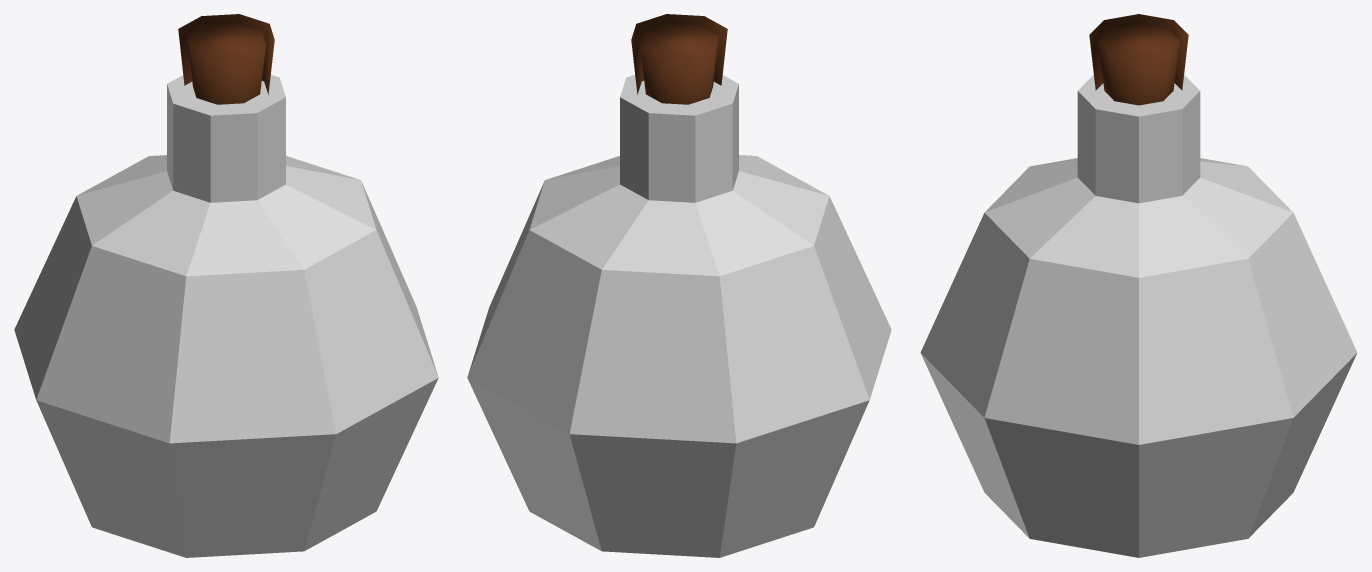
File: potion1.glb
The picture shows the model from 3 angles, left to right: view 1: azimuth 30°, elevation 25°; view 2: azimuth 150°, elevation 25°; view 3: azimuth 270°, elevation 25°; orthographic projection.
Visible parts, largest first — view 1: Sphere, Cylinder.001; view 2: Sphere, Cylinder.001; view 3: Sphere, Cylinder.001.
Part boxes in pixels (x1,y1,x2,y2): Sphere: [14, 75, 438, 557]; Cylinder.001: [178, 14, 274, 104]; Sphere: [467, 75, 891, 557]; Cylinder.001: [631, 14, 727, 104]; Sphere: [920, 75, 1357, 557]; Cylinder.001: [1089, 14, 1188, 105].
Bounding box in the file's own units: 2 × 2.6 × 2.
